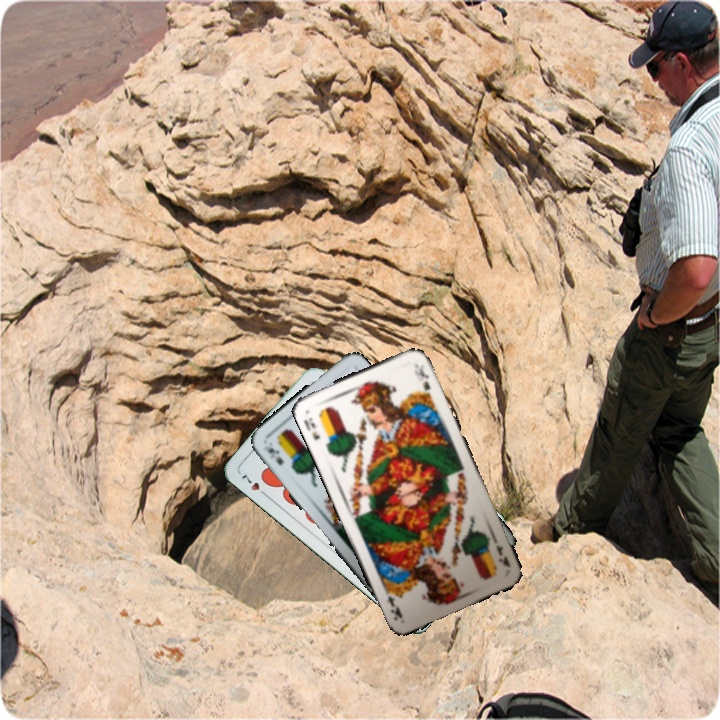EK: (490, 532, 513, 570), (300, 413, 323, 443), (262, 443, 286, 468)
H7: (237, 470, 271, 500)
